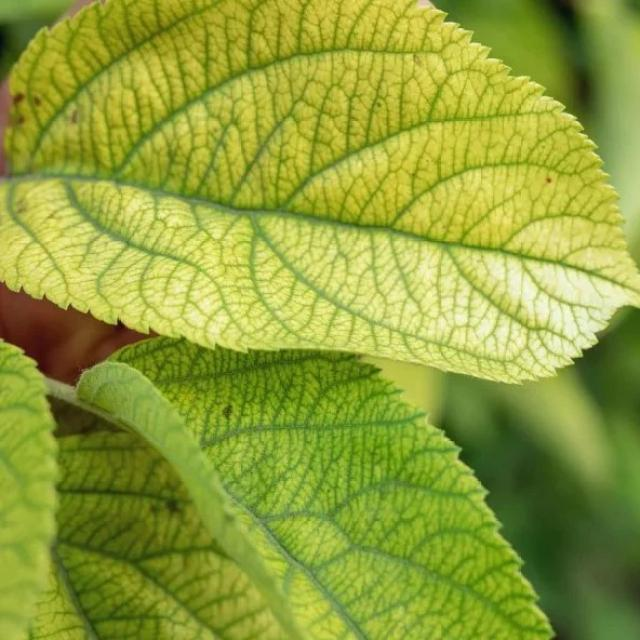Chlorosis: (15, 4, 586, 542)
